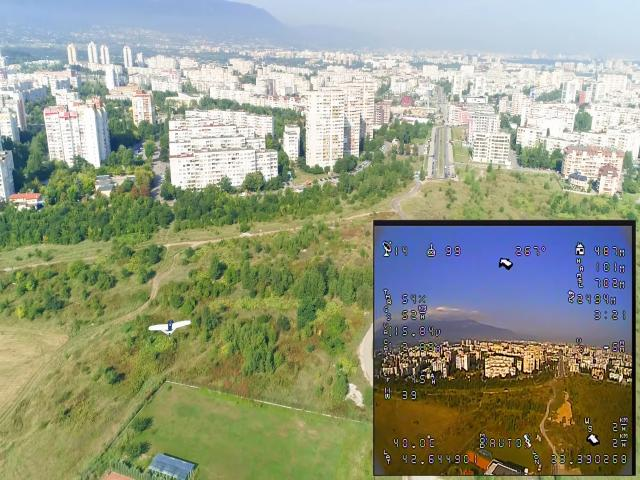plane: (148, 320, 192, 336)
